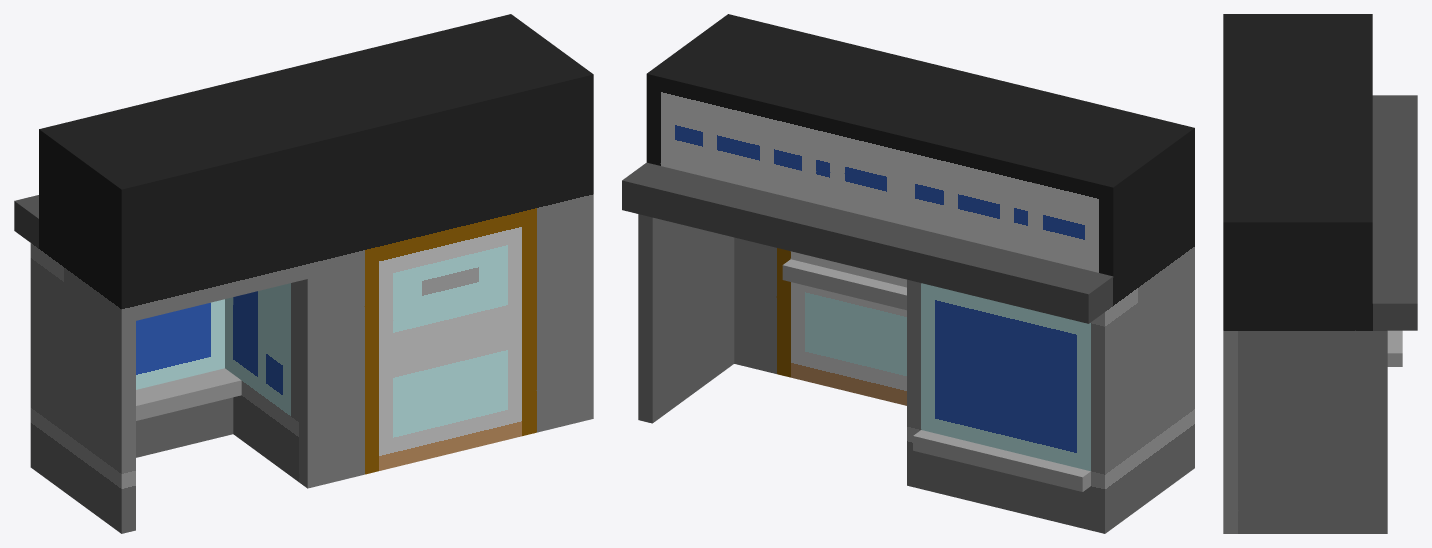
The model's file is obj_store4.dae.
3 renders of one model, left to right at view 1: azimuth 30°, elevation 25°; view 2: azimuth 150°, elevation 25°; view 3: azimuth 270°, elevation 25°, orthographic. The views are drawn at different scales.
Parts seen in each view (by area): view 1: obj_store4; view 2: obj_store4; view 3: obj_store4.
Boxes of the visible parts, x1,y1,x2,y2 form: obj_store4: (14,14,593,533); obj_store4: (622,14,1194,533); obj_store4: (1223,14,1417,533).
Bounding box in the file's own units: 3.3 × 1.3 × 2.3.
1 material, 1 textured.
